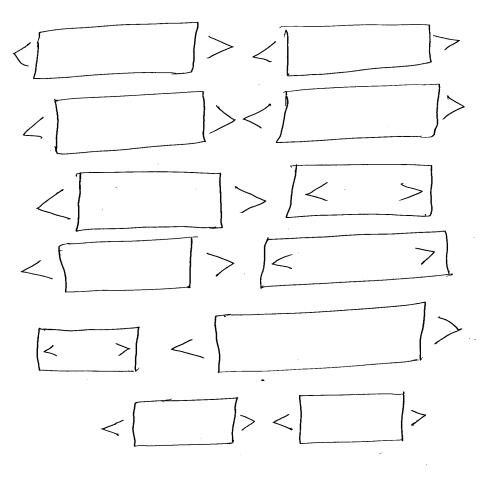Carousel: (170, 301, 464, 374), (36, 171, 269, 233), (242, 84, 466, 145), (23, 92, 236, 156), (13, 22, 236, 80), (20, 237, 236, 294), (260, 232, 452, 290), (252, 25, 461, 77), (286, 164, 434, 220), (274, 393, 428, 445), (101, 397, 256, 448), (36, 327, 142, 373)
